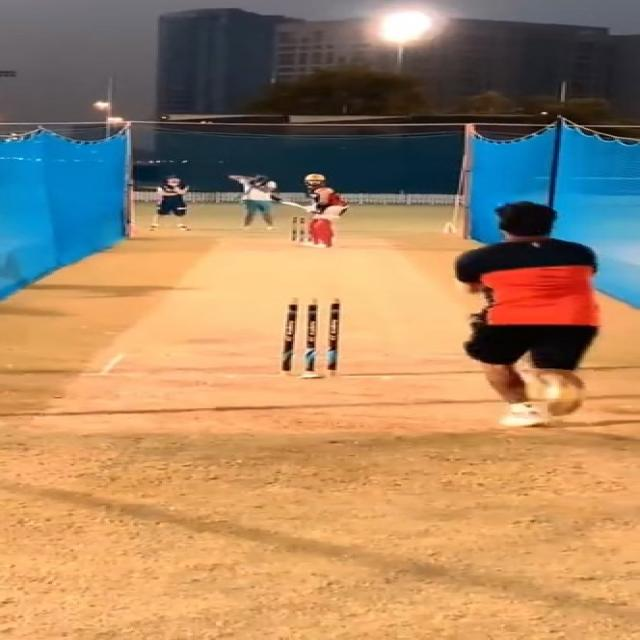batsman: (279, 173, 351, 249)
